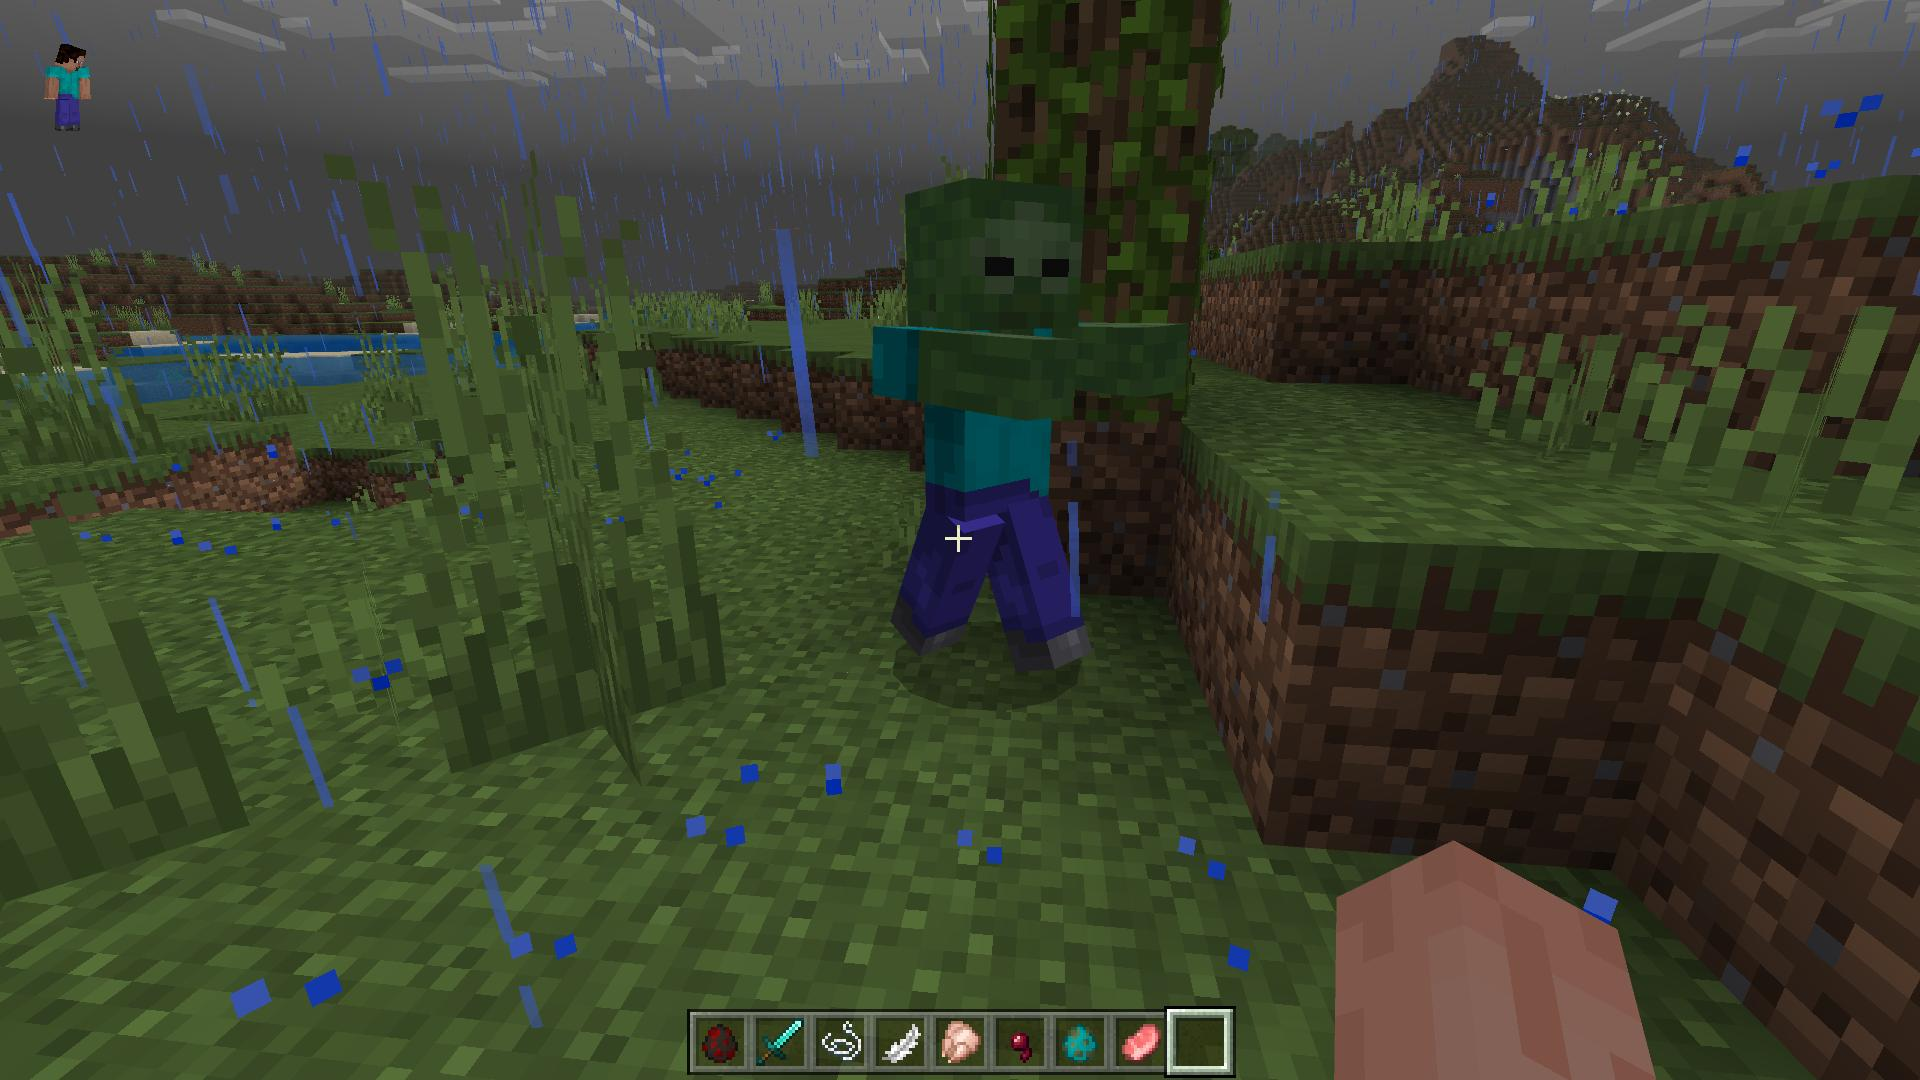zombie: (866, 177, 1187, 680)
